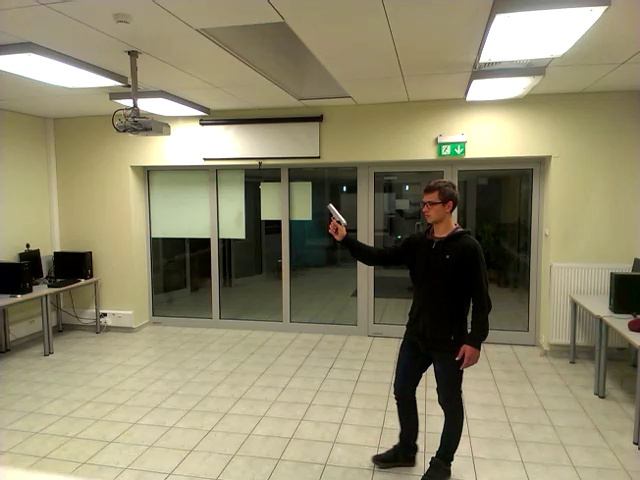gun: (321, 188, 353, 245)
